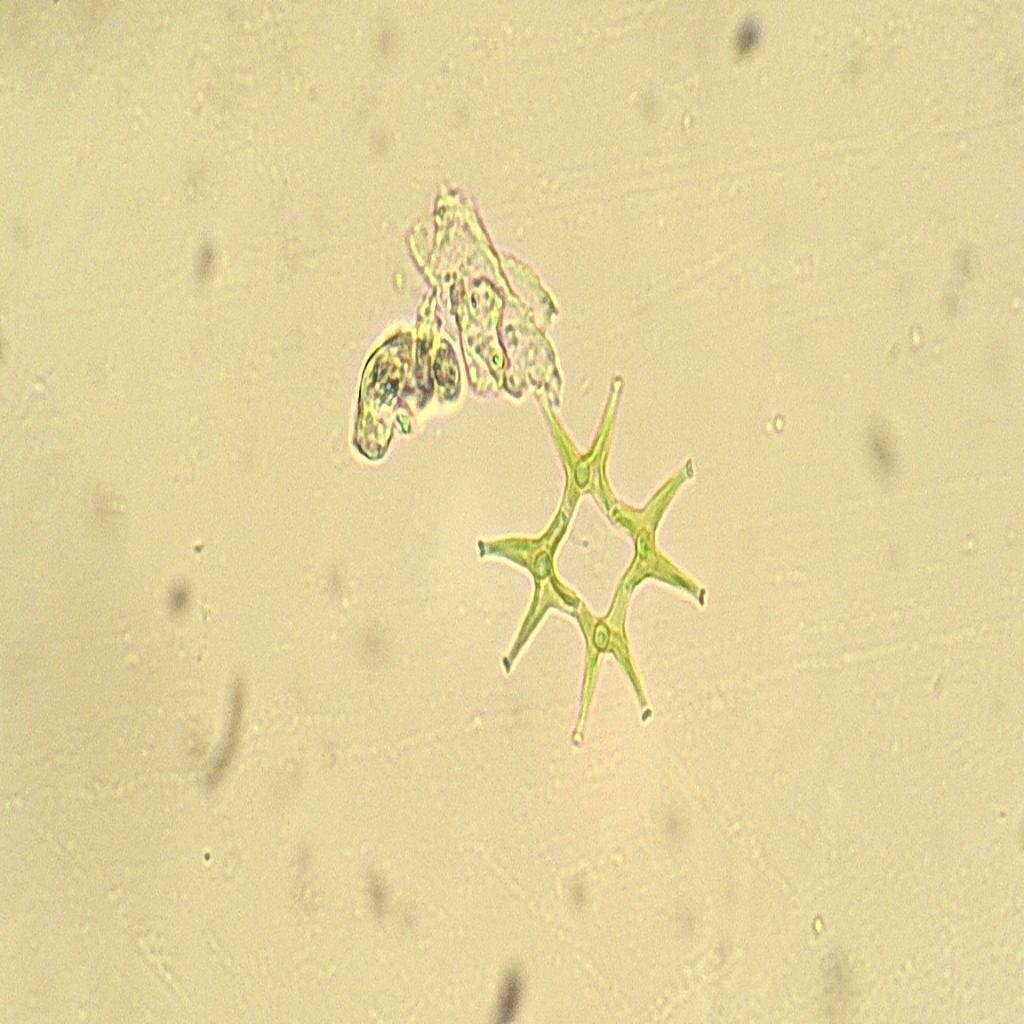Pediastrum_75O: (466, 350, 727, 773)
